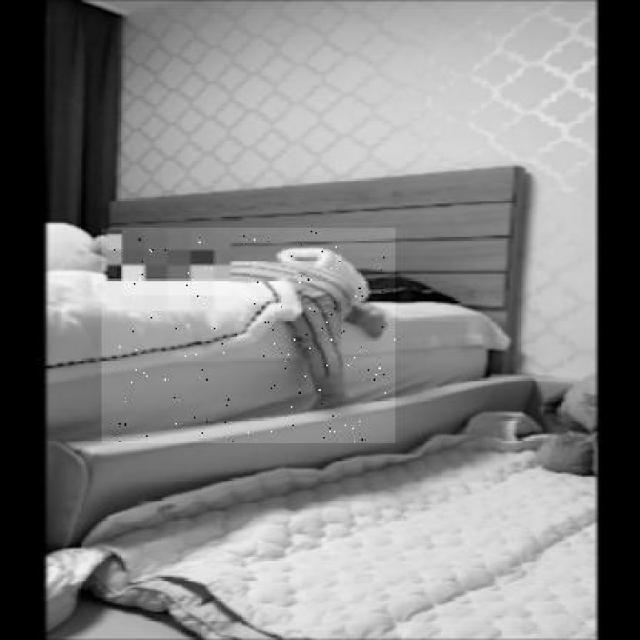child: (102, 228, 396, 444)
